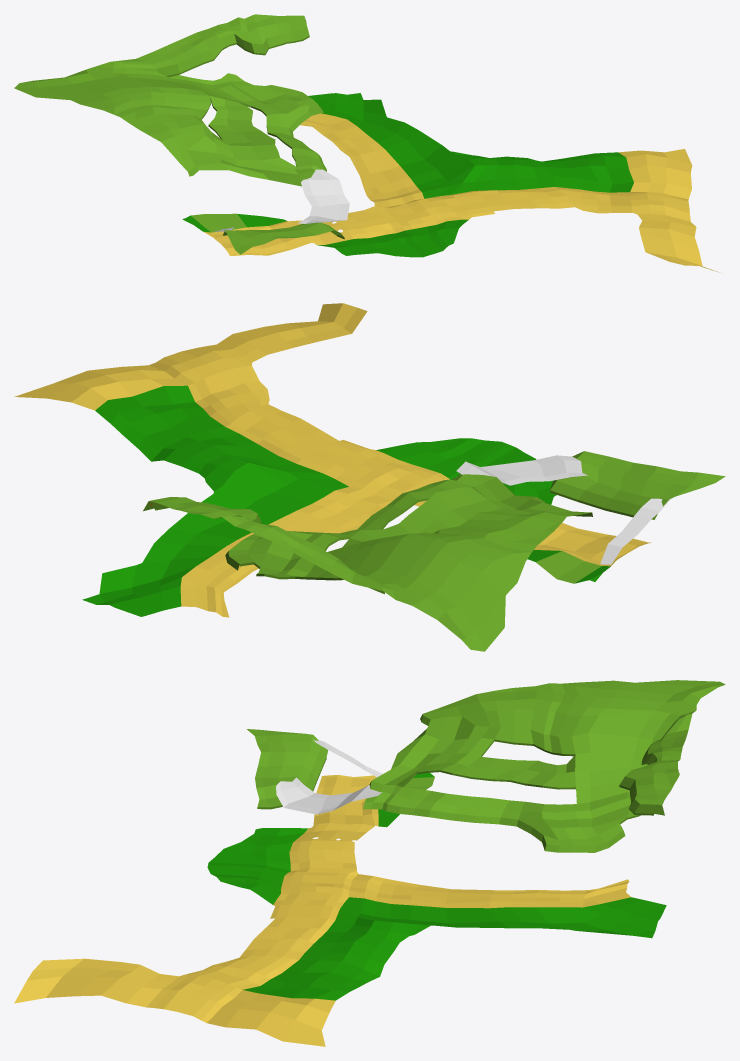
The model's file is ForestNavMesh.glb.
3 renders of one model, top to bottom at view 1: azimuth 30°, elevation 25°; view 2: azimuth 150°, elevation 25°; view 3: azimuth 270°, elevation 25°, orthographic. The views are drawn at different scales.
Visible parts, largest first — view 1: Plane.001, Plane.002; view 2: Plane.001, Plane.002, Plane; view 3: Plane.001, Plane.002.
Part boxes in pixels (x1,y1,x2,y2): Plane.001: (14,14,720,272); Plane.002: (297,169,349,223); Plane.001: (14,303,725,651); Plane.002: (456,455,587,485); Plane: (600,498,670,564); Plane.001: (14,680,725,1046); Plane.002: (276,777,381,814).
Size of the model in its own units: 205 by 39.96 by 211.
